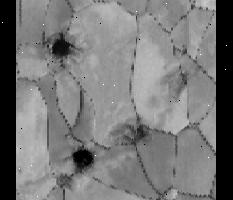good_void: (157, 61, 191, 102), (108, 117, 150, 147), (49, 30, 77, 57), (70, 144, 96, 172), (51, 167, 76, 189)
